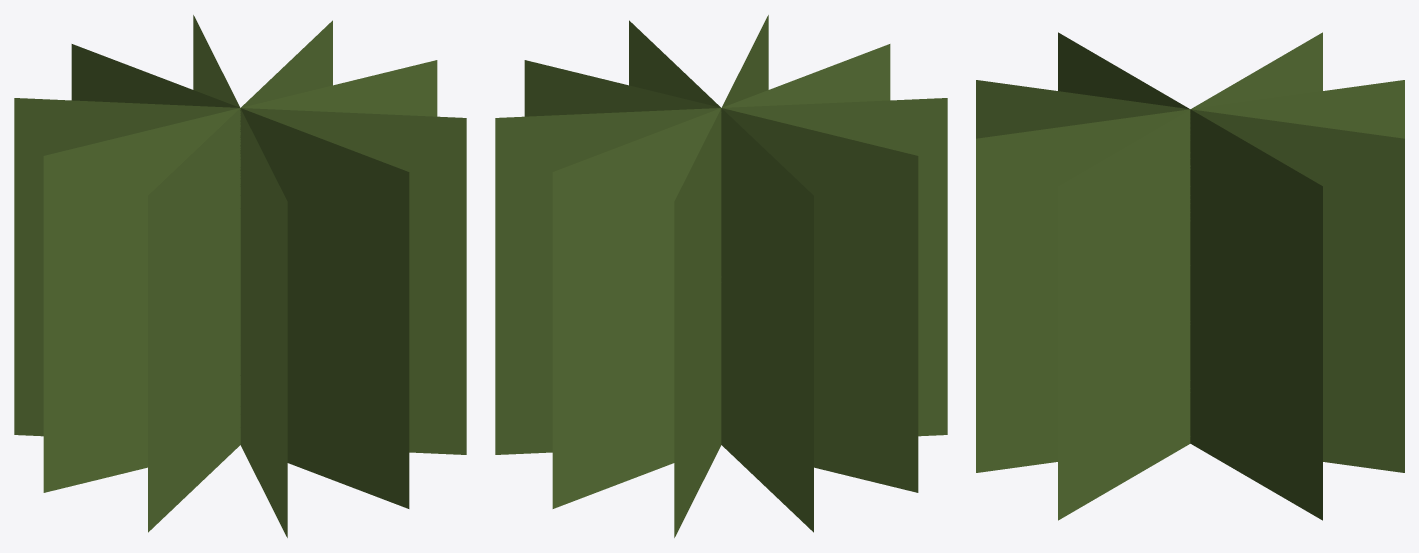
The model's file is roadside_shrub.glb.
The picture shows the model from 3 angles, left to right: view 1: azimuth 30°, elevation 25°; view 2: azimuth 150°, elevation 25°; view 3: azimuth 270°, elevation 25°; orthographic projection.
Visible parts, largest first — view 1: Cutout_foliage.001; view 2: Cutout_foliage.001; view 3: Cutout_foliage.001.
Part boxes in pixels (x1,y1,x2,y2): Cutout_foliage.001: [14, 15, 466, 537]; Cutout_foliage.001: [495, 15, 947, 537]; Cutout_foliage.001: [976, 32, 1404, 520].
Bounding box in the file's own units: 1.1 × 0.9 × 1.05.
